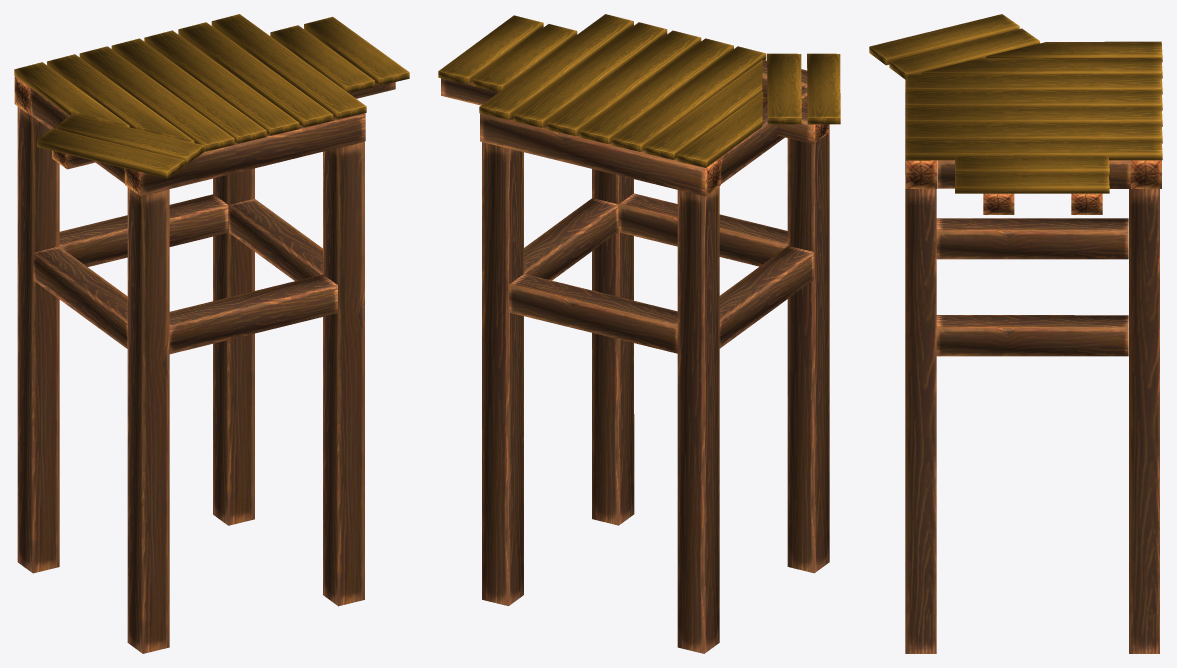
File: INST_HTOWN_PLAYPLAT1.fbx
3 views of the same model, side by side, from view 1: azimuth 30°, elevation 25°; view 2: azimuth 150°, elevation 25°; view 3: azimuth 270°, elevation 25° (orthographic).
Parts seen in each view (by area): view 1: INST_HTOWN_PLAYPLAT1; view 2: INST_HTOWN_PLAYPLAT1; view 3: INST_HTOWN_PLAYPLAT1.
Part boxes in pixels (bbox=[...]): INST_HTOWN_PLAYPLAT1: bbox=[14, 14, 409, 653]; INST_HTOWN_PLAYPLAT1: bbox=[438, 14, 840, 653]; INST_HTOWN_PLAYPLAT1: bbox=[869, 14, 1162, 653].
Size of the model in its own units: 40561 by 54639 by 28975.
2 materials, 2 textured.
